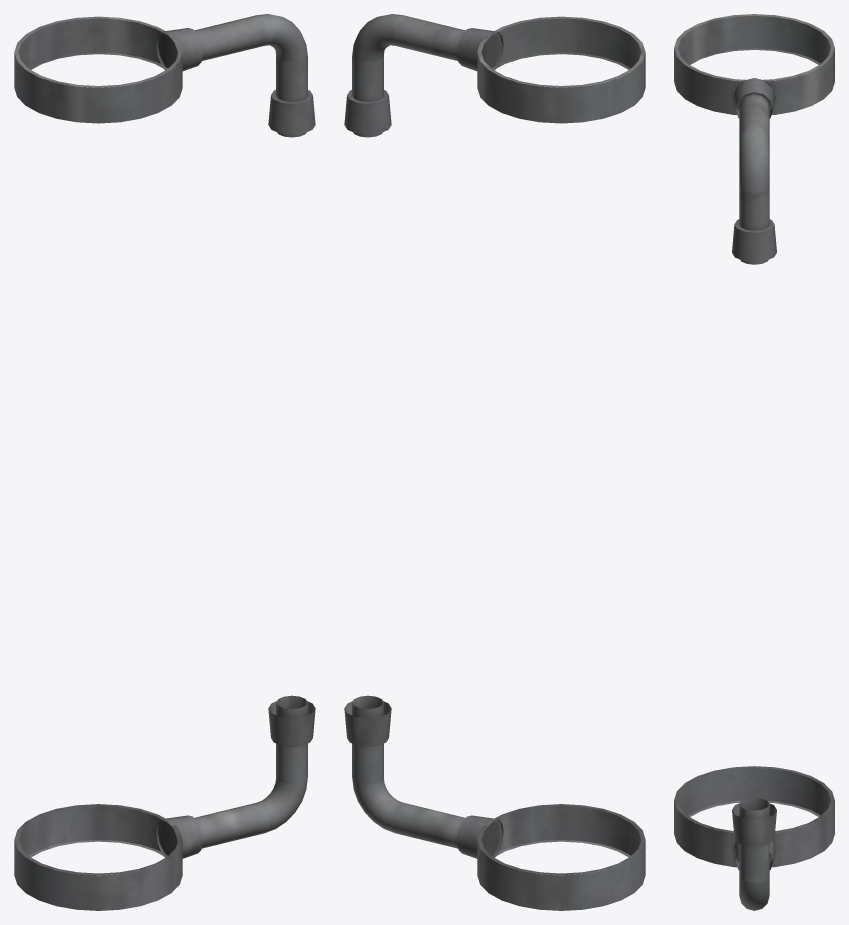
Rendered from sideMountMast-v1-galvanised.glb.
The picture shows the model from 3 angles, left to right: view 1: azimuth 30°, elevation 25°; view 2: azimuth 150°, elevation 25°; view 3: azimuth 270°, elevation 25°; orthographic projection. The views are drawn at different scales.
Visible parts, largest first — view 1: sideMountMast-v1-galvanised; view 2: sideMountMast-v1-galvanised; view 3: sideMountMast-v1-galvanised.
Part boxes in pixels (x1=…): sideMountMast-v1-galvanised: x1=14, y1=14, x2=315, y2=910; sideMountMast-v1-galvanised: x1=344, y1=14, x2=645, y2=910; sideMountMast-v1-galvanised: x1=674, y1=14, x2=834, y2=910.
Bounding box in the file's own units: 0.5042 × 1.39 × 0.2563.
Materials: 1 (1 with a texture image).
